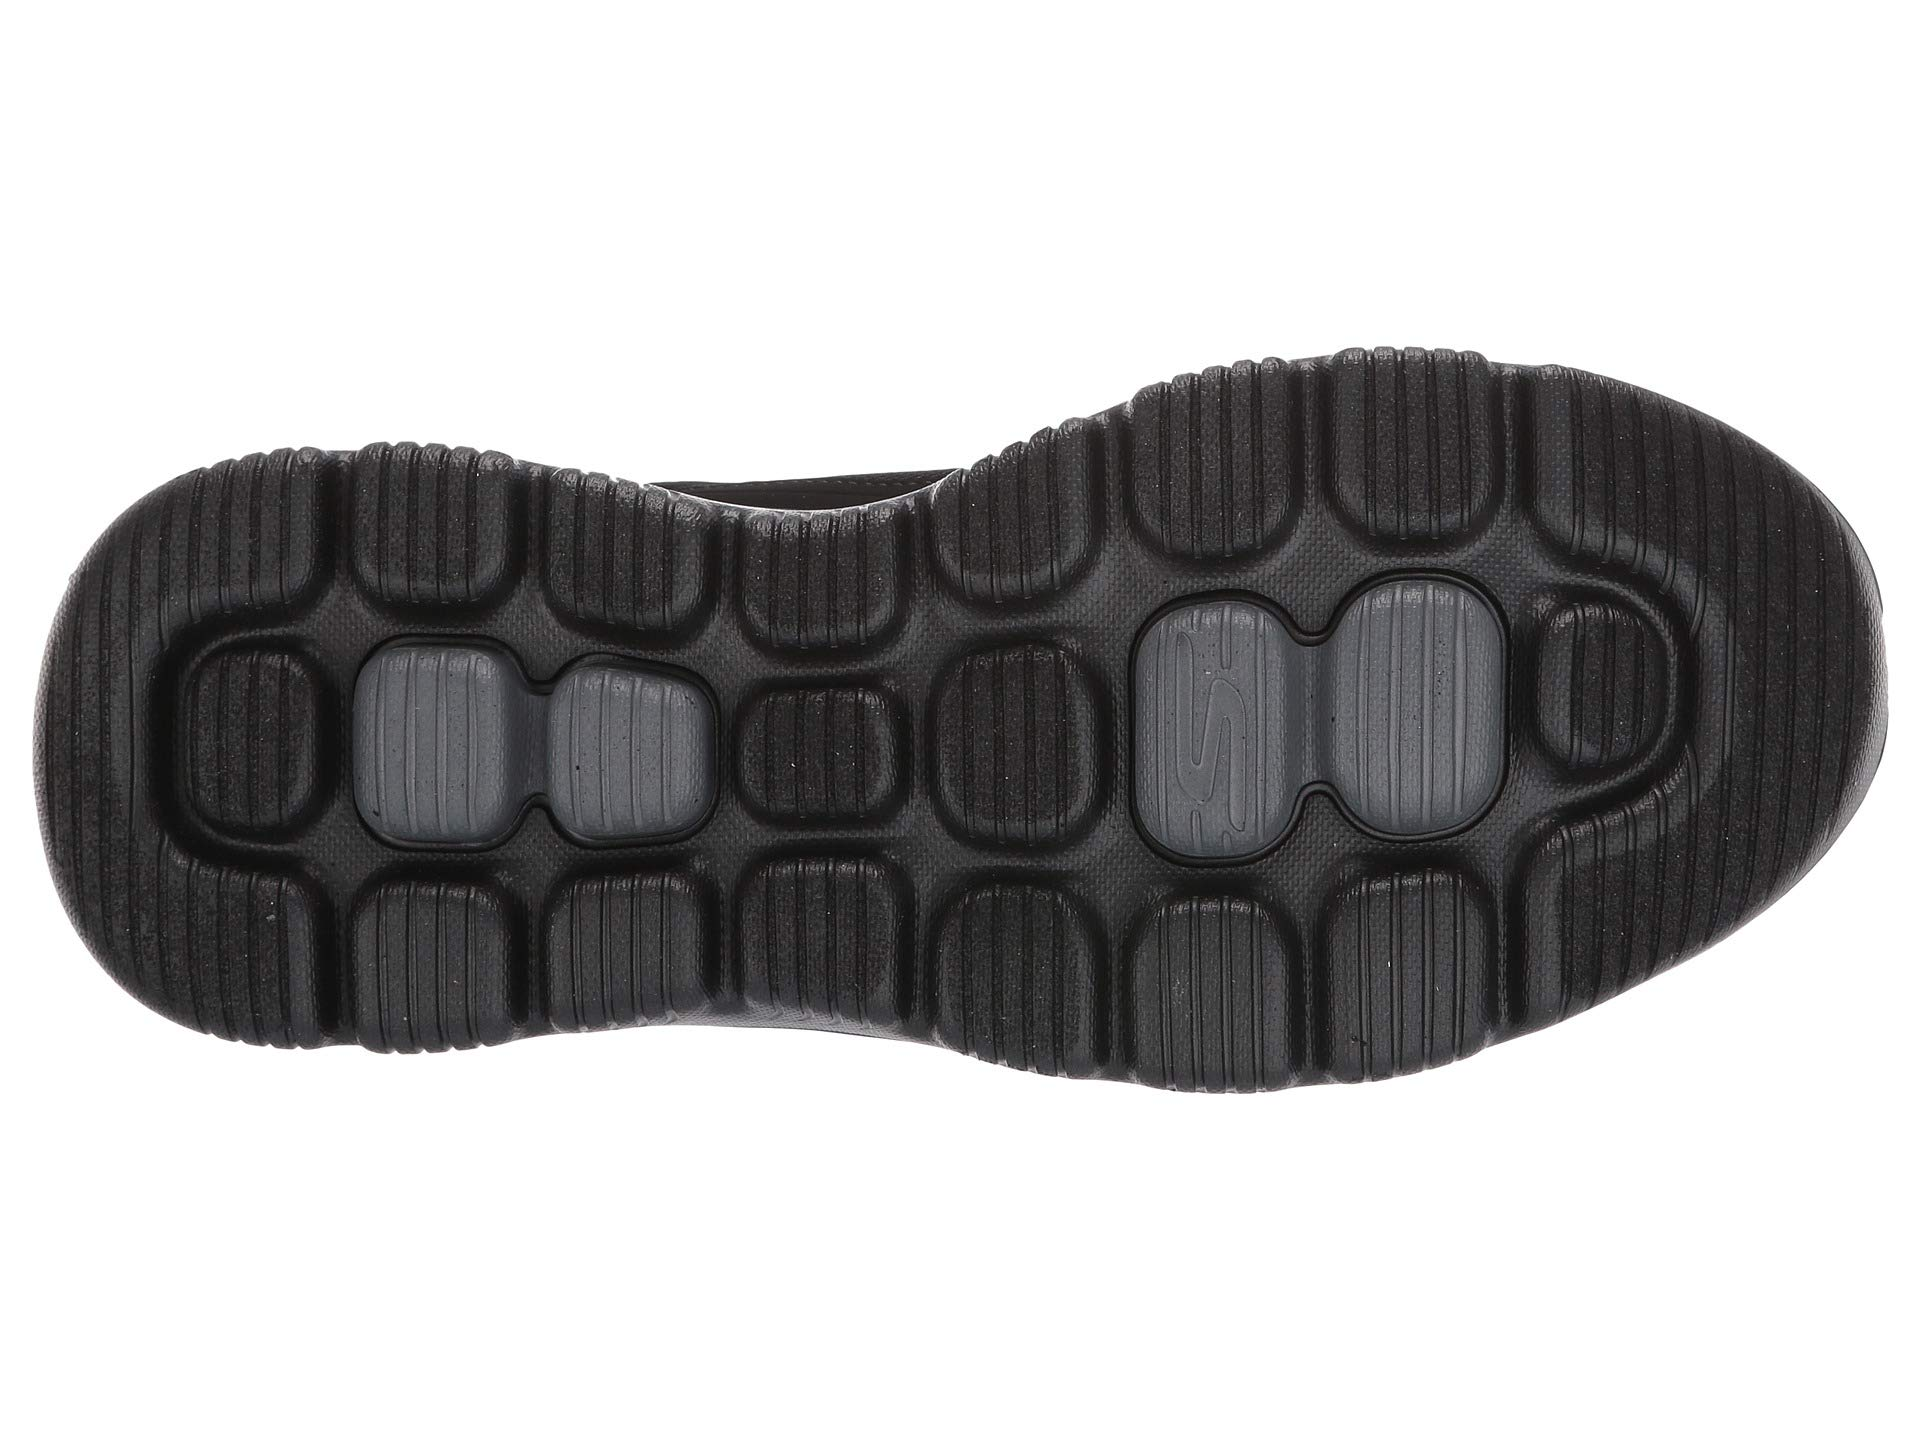line: (1002, 464, 1522, 1109), (308, 597, 773, 1080)
quad: (1002, 464, 1522, 1109), (308, 597, 773, 1080)
